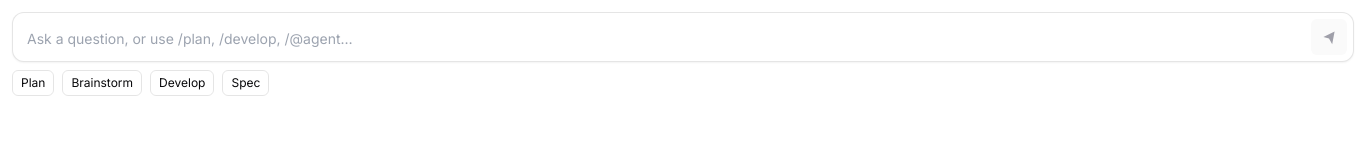
Test: ChatComposer › chip interaction › clicking Develop chip sets textarea to /develop  and focuses it
Click the button with test id "chat-composer-chip-develop".
click(182, 83)  # box [150, 70, 214, 96]
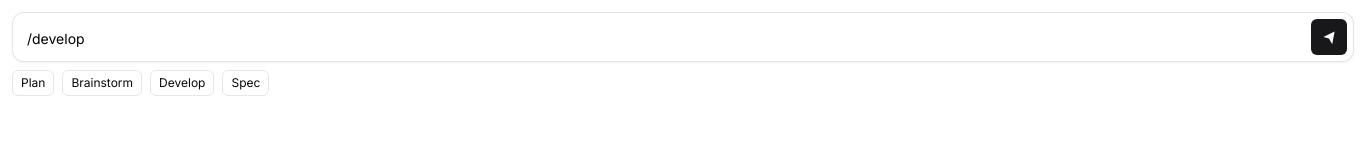
Expected: the text box with test id "chat-composer-textarea" holds "/develop ", [19, 23, 1303, 55]
